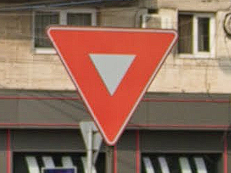cedeaza: (44, 21, 183, 152)
